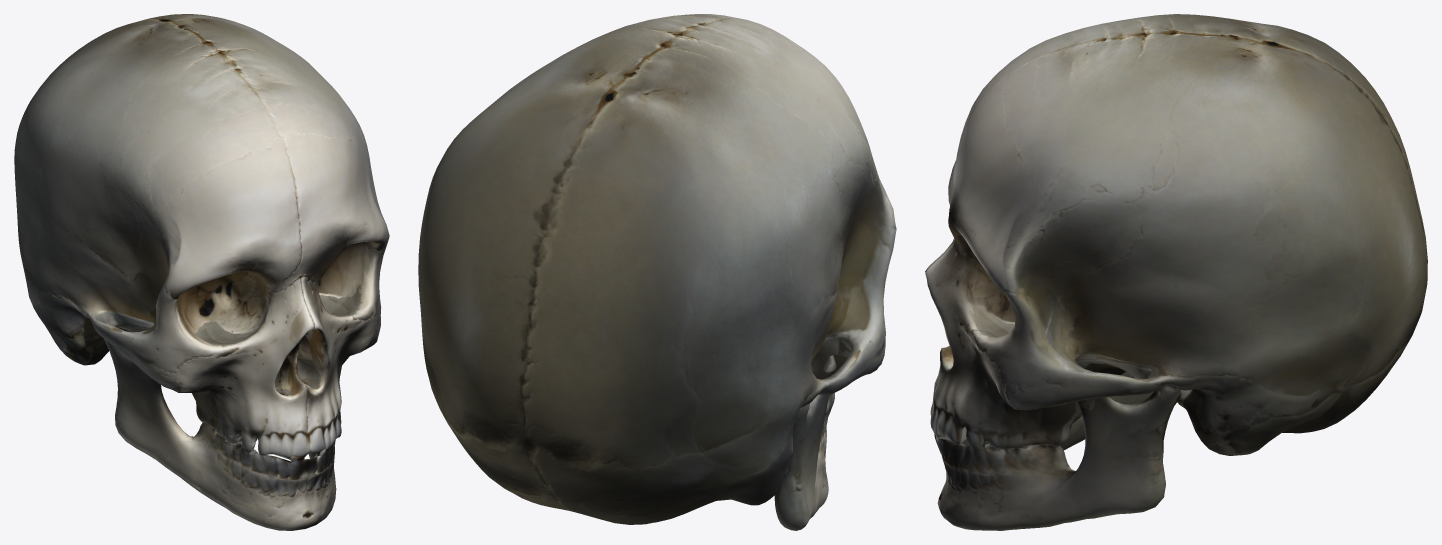
Rendered from skull_0319194551_texture.fbx.
The picture shows the model from 3 angles, left to right: view 1: azimuth 30°, elevation 25°; view 2: azimuth 150°, elevation 25°; view 3: azimuth 270°, elevation 25°; orthographic projection. The views are drawn at different scales.
Visible parts, largest first — view 1: Mesh1; view 2: Mesh1; view 3: Mesh1.
Part boxes in pixels (<box>): Mesh1: <box>14,14,389,530</box>; Mesh1: <box>418,14,896,530</box>; Mesh1: <box>925,14,1427,530</box>.
Bounding box in the file's own units: 137 × 200 × 188.
1 material, 1 textured.
